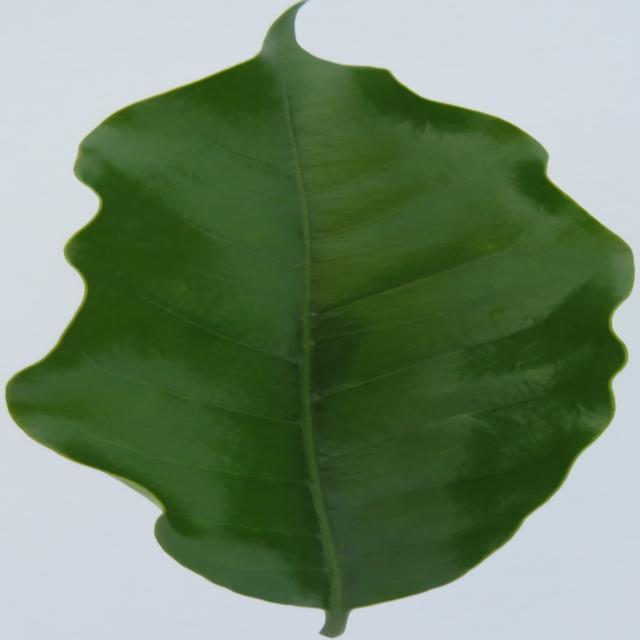DeficienciaNutricional-Calcio: (9, 18, 633, 629)
